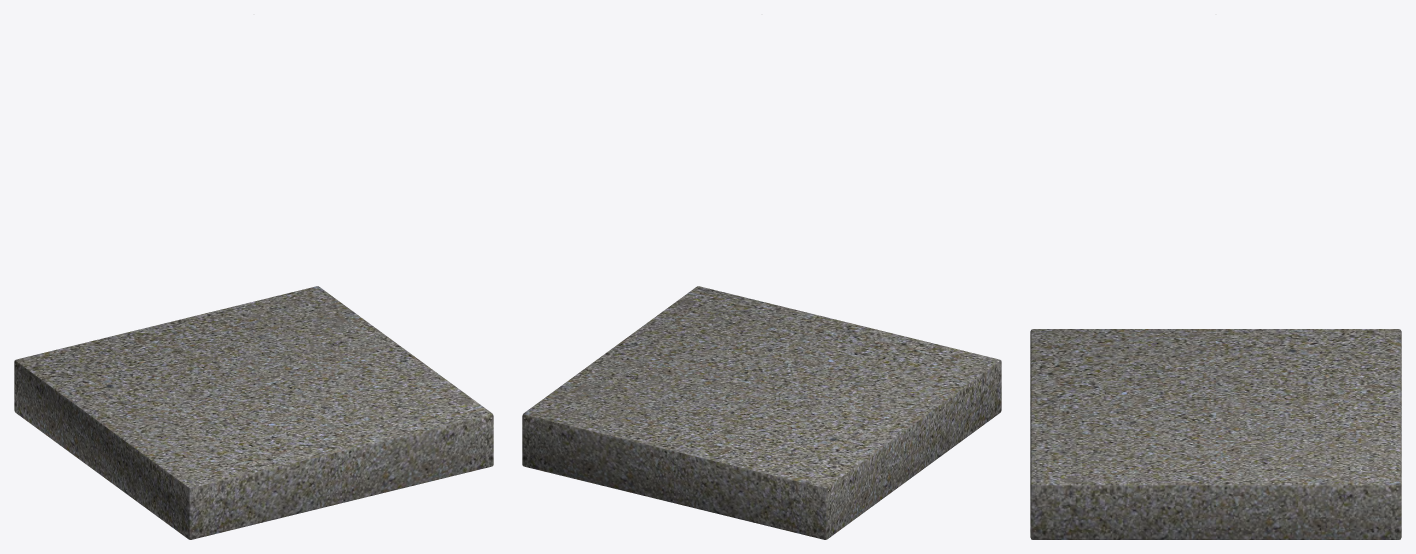
File: ELE-CXA-005_anim.glb
The picture shows the model from 3 angles, left to right: view 1: azimuth 30°, elevation 25°; view 2: azimuth 150°, elevation 25°; view 3: azimuth 270°, elevation 25°; orthographic projection. The views are drawn at different scales.
Visible parts, largest first — view 1: ELE-CXA-005_anim0; view 2: ELE-CXA-005_anim0; view 3: ELE-CXA-005_anim0.
Boxes of the visible parts, x1,y1,x2,y2 form: ELE-CXA-005_anim0: (14, 286, 493, 539); ELE-CXA-005_anim0: (522, 286, 1001, 539); ELE-CXA-005_anim0: (1030, 329, 1401, 539).
Bounding box in the file's own units: 0.3 × 0.4001 × 0.3.
5 materials, 4 textured.
